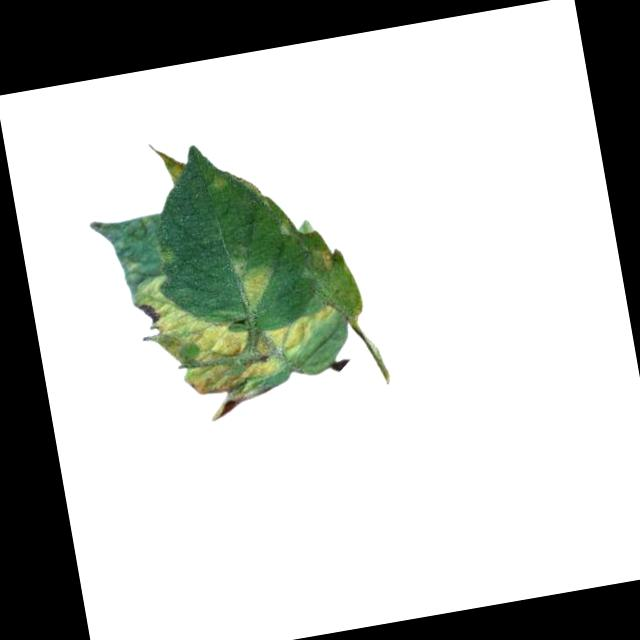Leaf_Mold: (130, 259, 261, 433), (234, 305, 346, 385), (230, 248, 279, 314), (141, 133, 190, 188), (312, 242, 339, 275)
